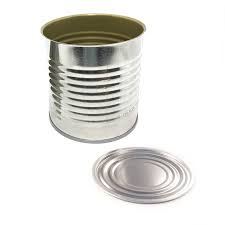can: (37, 11, 207, 210)
